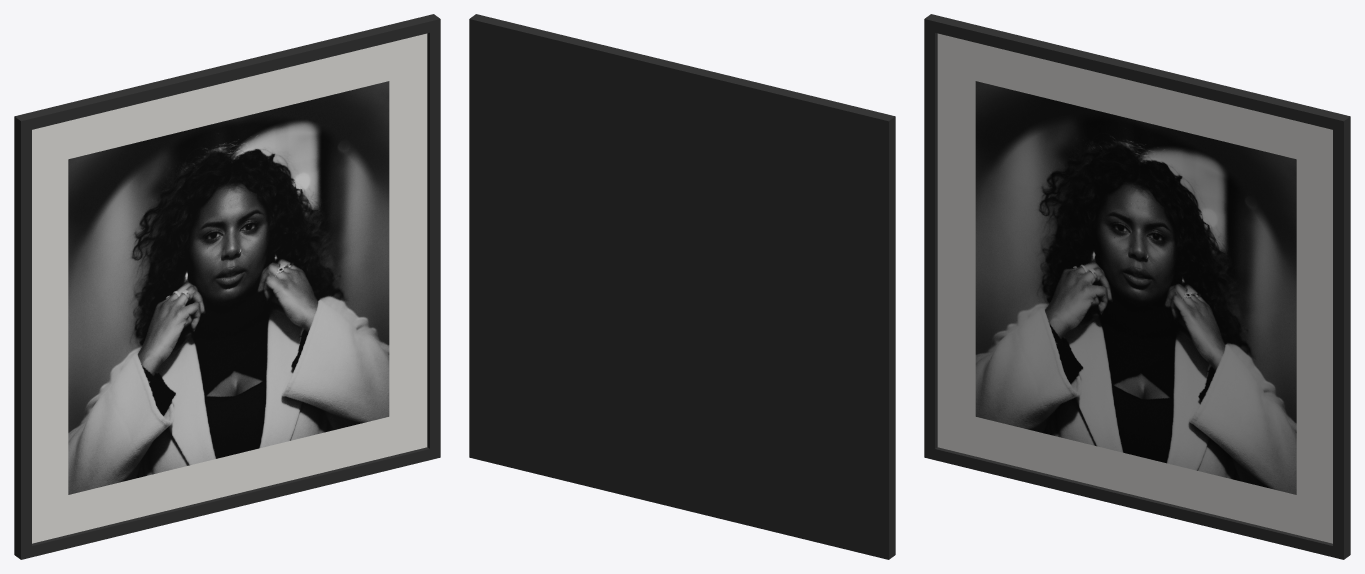
The model's file is kragen-60.gltf.
3 views of the same model, side by side, from view 1: azimuth 30°, elevation 25°; view 2: azimuth 150°, elevation 25°; view 3: azimuth 330°, elevation 25° (orthographic).
Parts seen in each view (by area): view 1: tavla; view 2: tavla; view 3: tavla.
Part boxes in pixels (<box>): tavla: <box>14,14,440,559</box>; tavla: <box>469,14,895,559</box>; tavla: <box>924,14,1350,559</box>.
Size of the model in its own units: 0.7838 by 0.7831 by 0.022.
3 materials, 1 textured.
